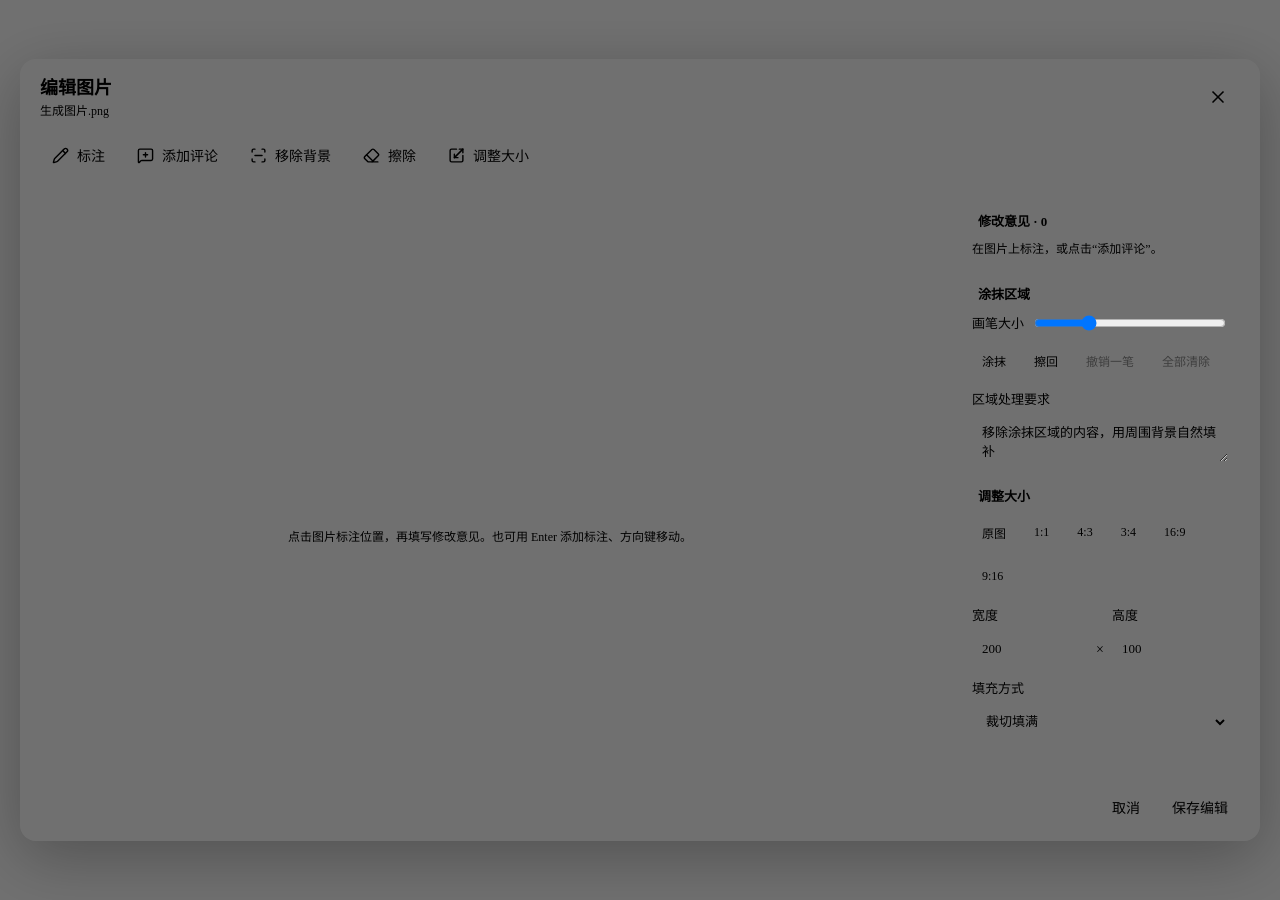
image editor interaction › keeps the modal open if PNG encoding fails and never reports a successful save
The width and height of the screenshot is (1280, 900).
Click the button "保存编辑": (1200, 807) [1160,787,1240,827]
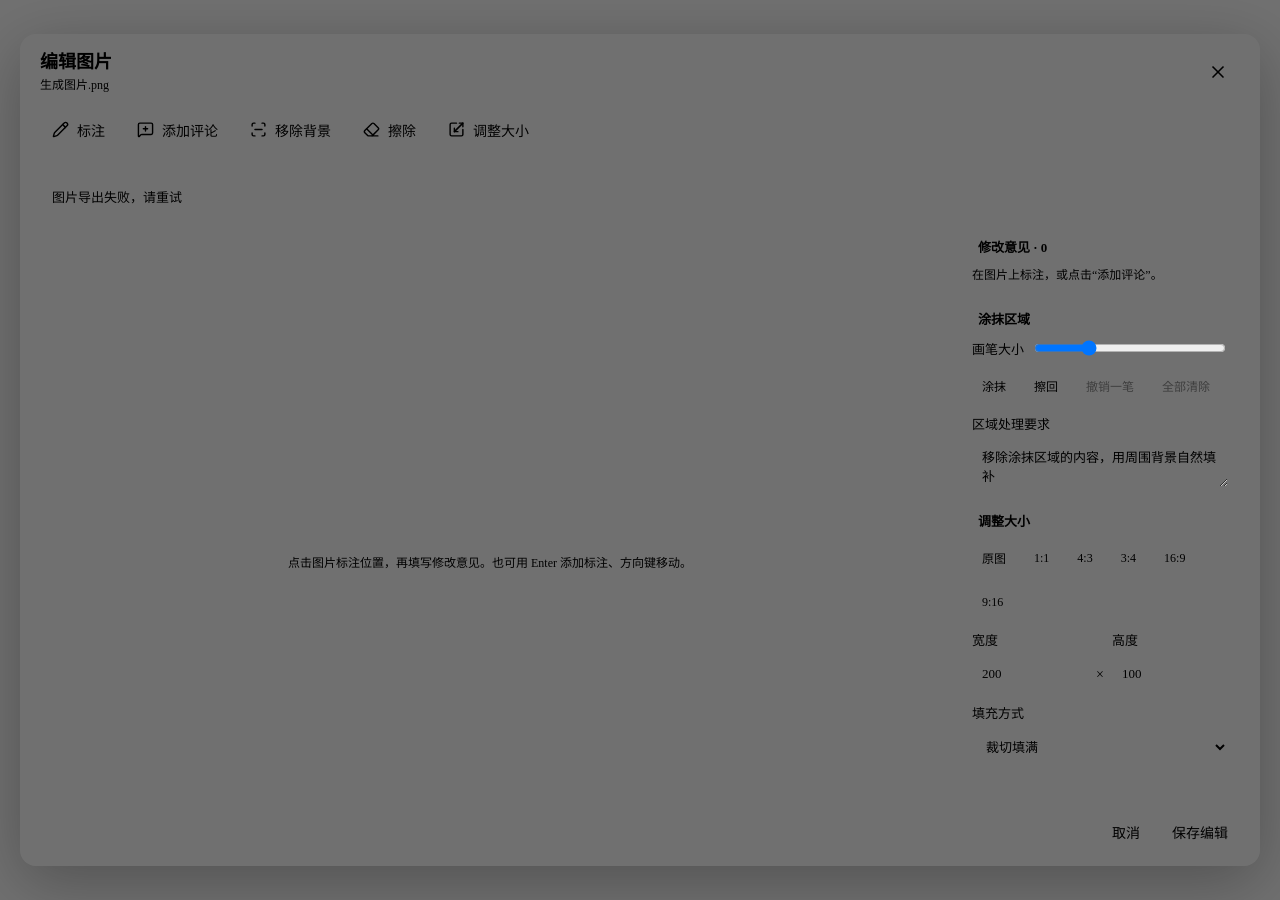
Expected: the button "保存编辑" is enabled, [1160,812,1240,852]
Expected: the message shows "导出失败", [52,190,182,205]
